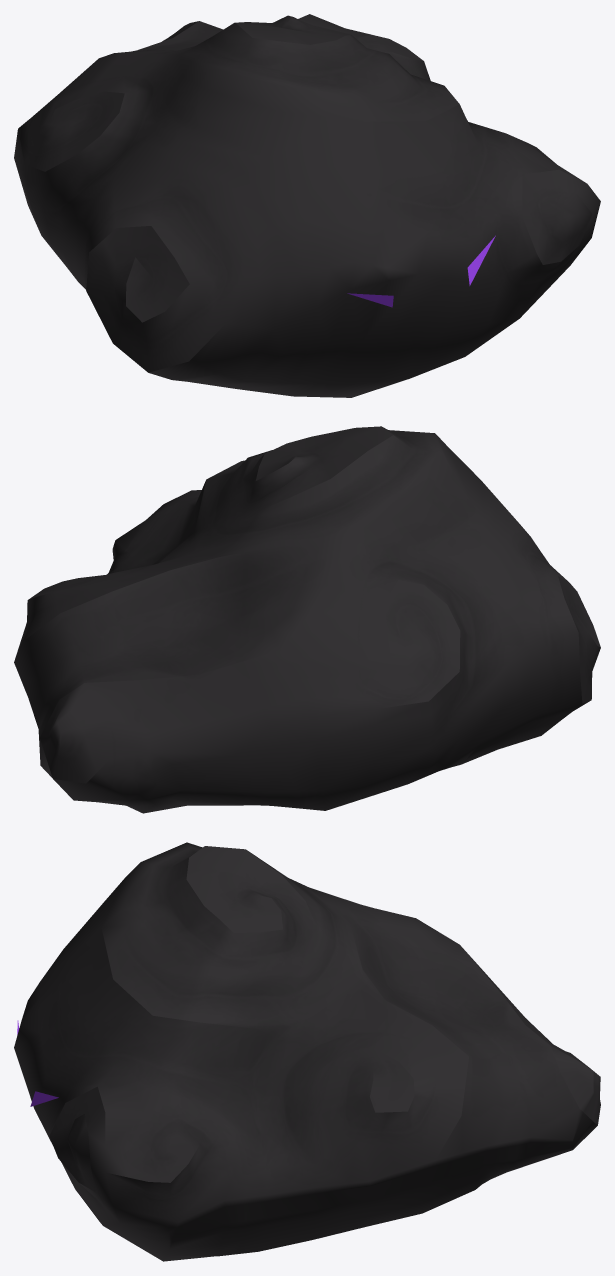
File: SM_Chara_Yokai_AkaShita02.fbx
3 views of the same model, one above another, from view 1: azimuth 30°, elevation 25°; view 2: azimuth 150°, elevation 25°; view 3: azimuth 270°, elevation 25° (orthographic). The views are drawn at different scales.
Visible parts, largest first — view 1: SM_Chara_Yokai_AkaShita, SM_Chara_Yokai_AkaShita_Eyes; view 2: SM_Chara_Yokai_AkaShita; view 3: SM_Chara_Yokai_AkaShita.
Part boxes in pixels (<box>): SM_Chara_Yokai_AkaShita: <box>14,14,600,397</box>; SM_Chara_Yokai_AkaShita_Eyes: <box>347,235,495,307</box>; SM_Chara_Yokai_AkaShita: <box>14,426,600,813</box>; SM_Chara_Yokai_AkaShita: <box>14,842,600,1261</box>.
Bounding box in the file's own units: 69.96 × 51.03 × 78.17.
